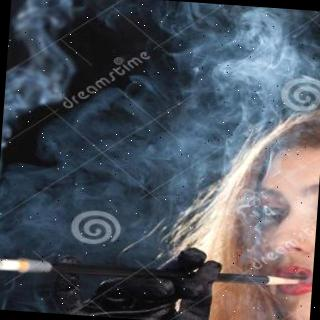smoke: (49, 128, 316, 320), (181, 10, 320, 137), (3, 0, 103, 112)
